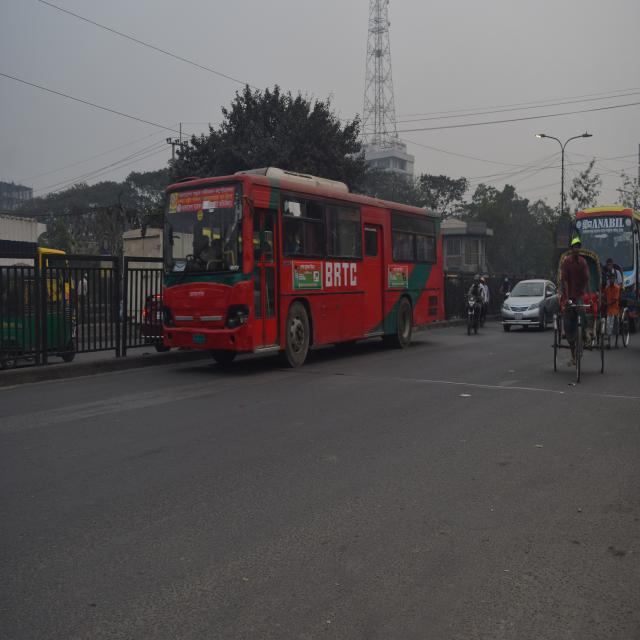bus: (149, 170, 446, 357), (563, 203, 640, 320)
car: (499, 266, 555, 334)
motorbike: (464, 285, 486, 332)
